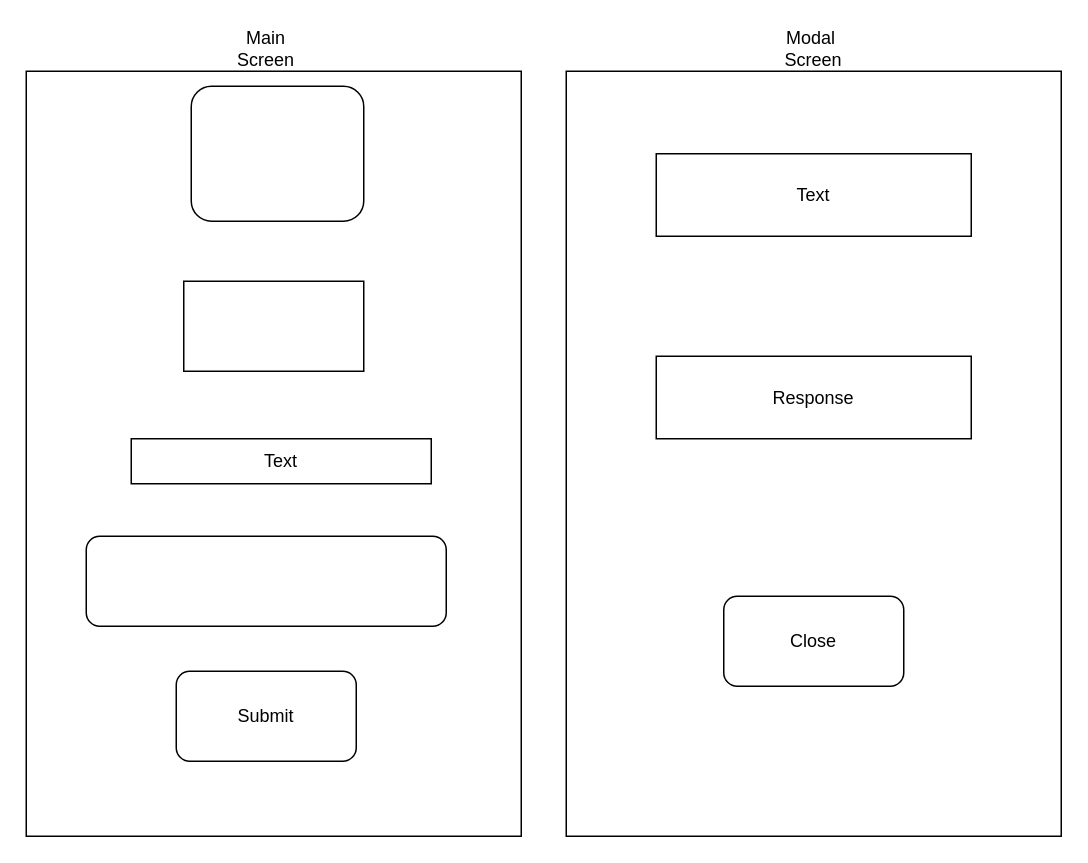
The diagram is 1088 pixels wide and 863 high, and some of its shapes have lost their labels. The shapes that lost their labels are listed below. From the top down, each one's box as (x1, y1, x2, y2) in pixels, then its label:
(190, 85, 364, 221): Image
(182, 280, 364, 371): Title
(85, 535, 446, 626): Text Input
